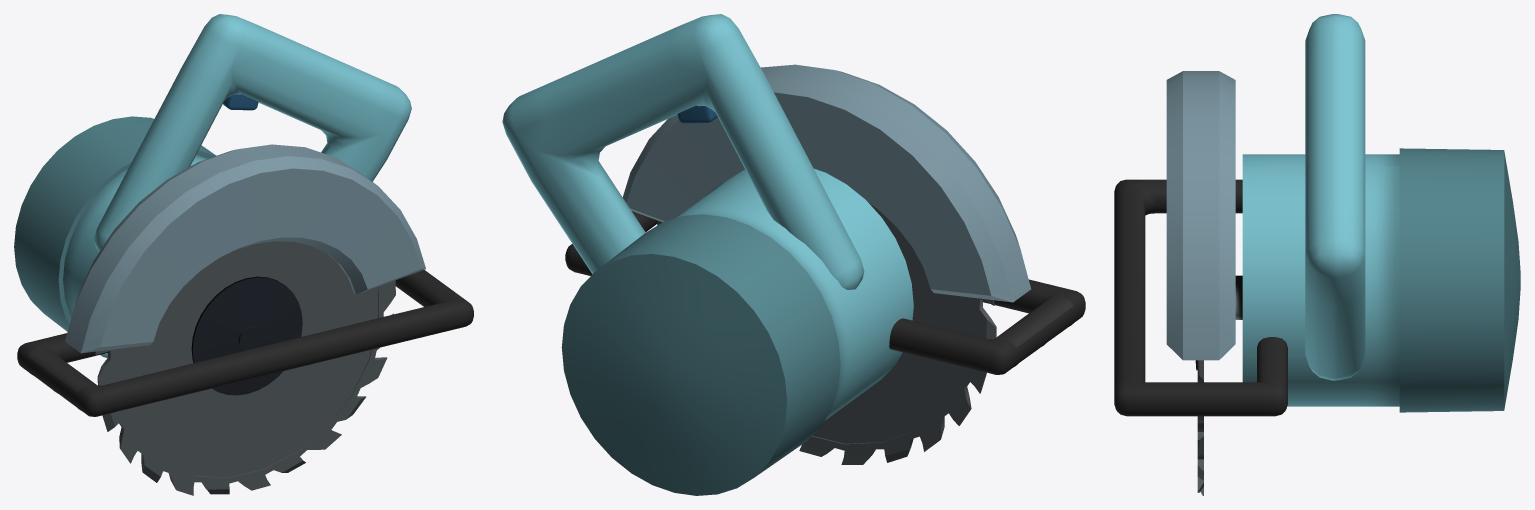
The model's file is circular-saw.fbx.
The picture shows the model from 3 angles, left to right: view 1: azimuth 30°, elevation 25°; view 2: azimuth 150°, elevation 25°; view 3: azimuth 270°, elevation 25°; orthographic projection. The views are drawn at different scales.
Visible parts, largest first — view 1: Cylinder.001; view 2: Cylinder.001; view 3: Cylinder.001.
Part boxes in pixels (bbox=[...]): Cylinder.001: bbox=[14, 14, 473, 495]; Cylinder.001: bbox=[502, 14, 1085, 495]; Cylinder.001: bbox=[1114, 14, 1520, 495].
Bounding box in the file's own units: 226 × 220 × 168.
